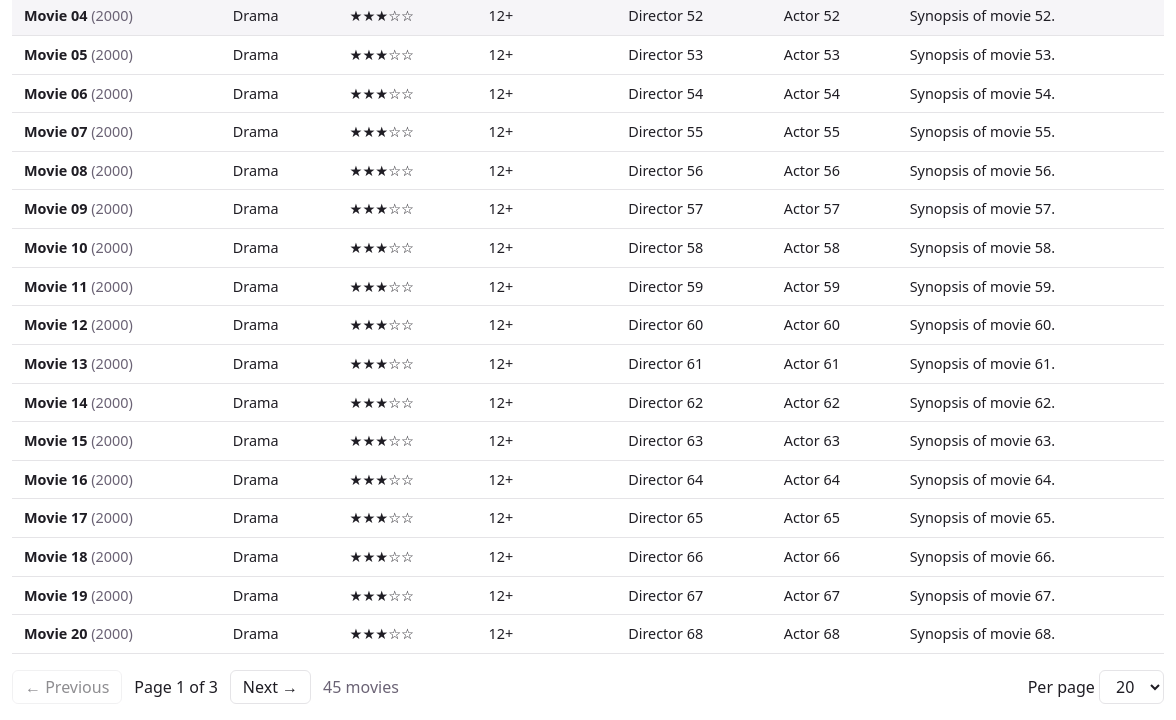
Test: MovieList › goes back to the first page when the page size changes
(page scrolled)
Click the button "Next →" at (270, 687), box [230,670,311,704]
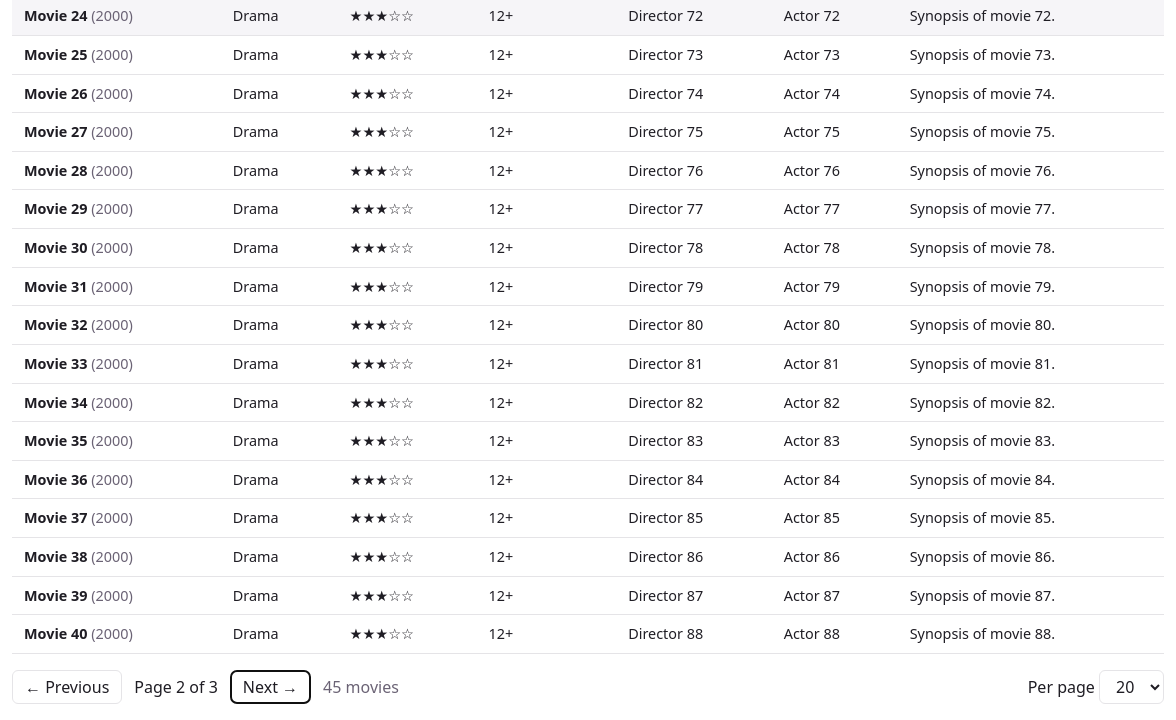
Expected: the text "Page 2 of 3" is shown, [134,675,218,699]
Select "50" in the dropdown labelled "Per page" at (1132, 687), box [1099,670,1164,704]
(page scrolled)
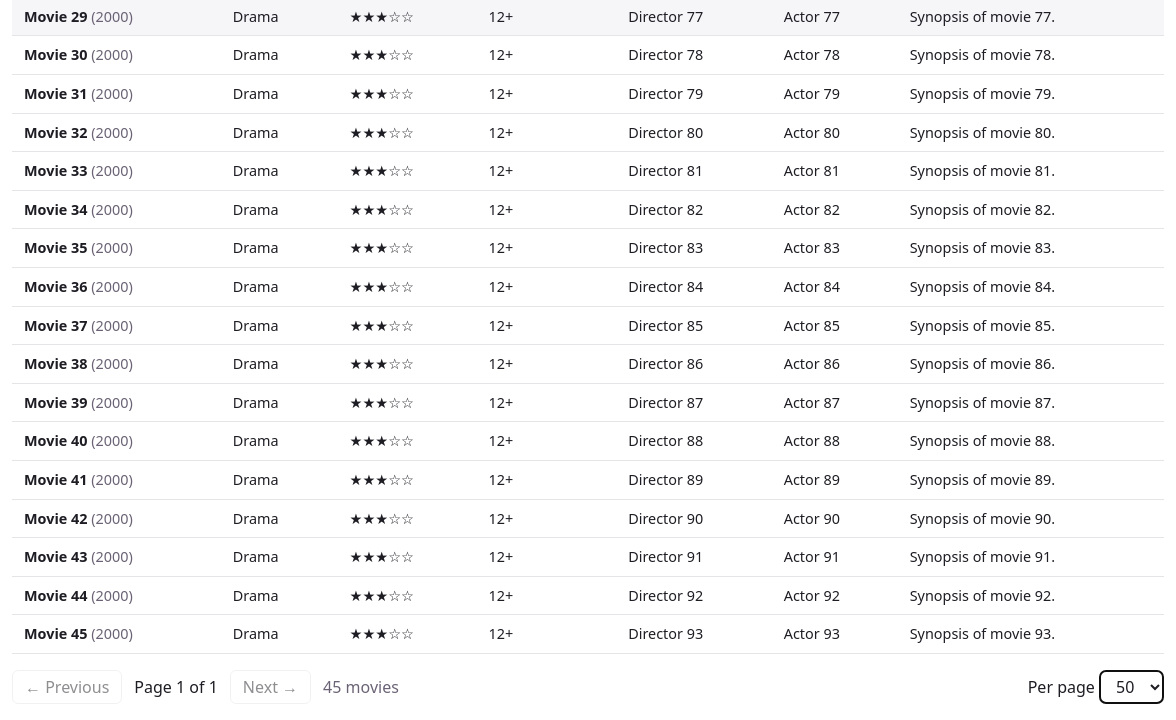
Expected: the text "Page 1 of 1" is shown, [134,675,218,699]
